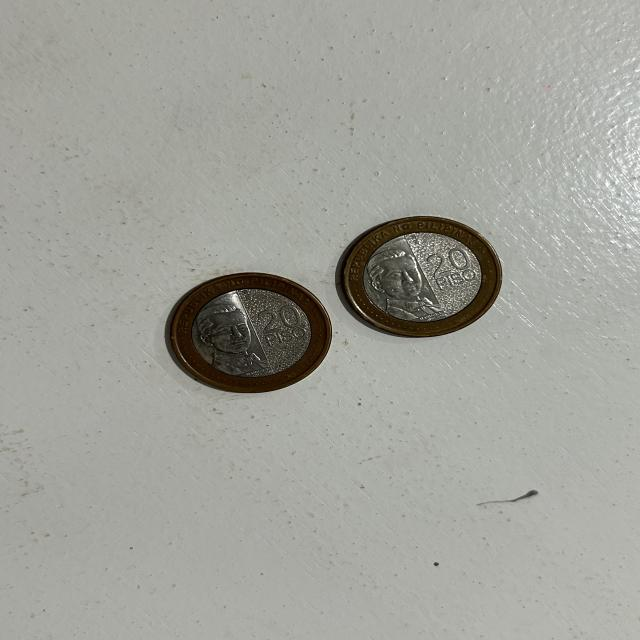20_New_Front: (254, 302, 312, 347), (425, 247, 480, 288)
